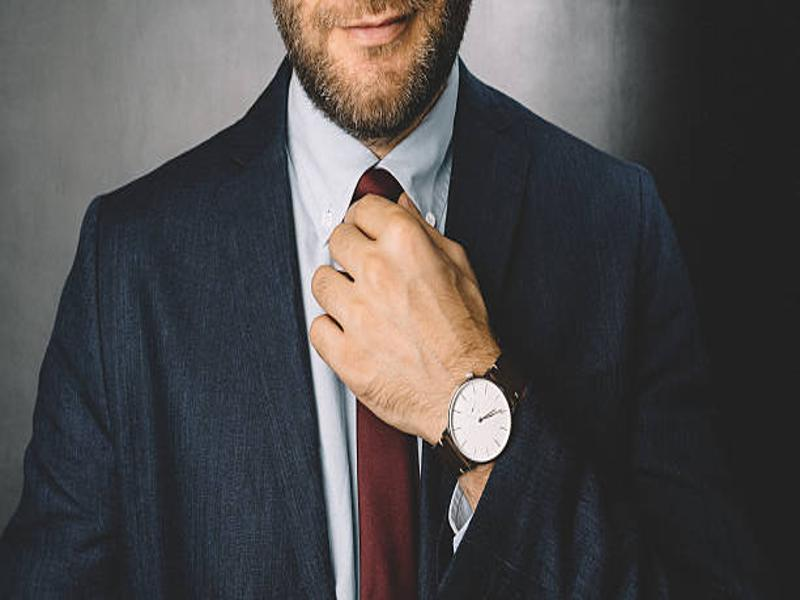watch: (430, 351, 531, 476)
